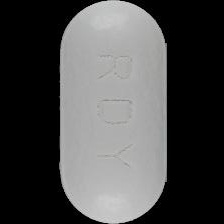55111-572: (0, 0, 224, 224)
